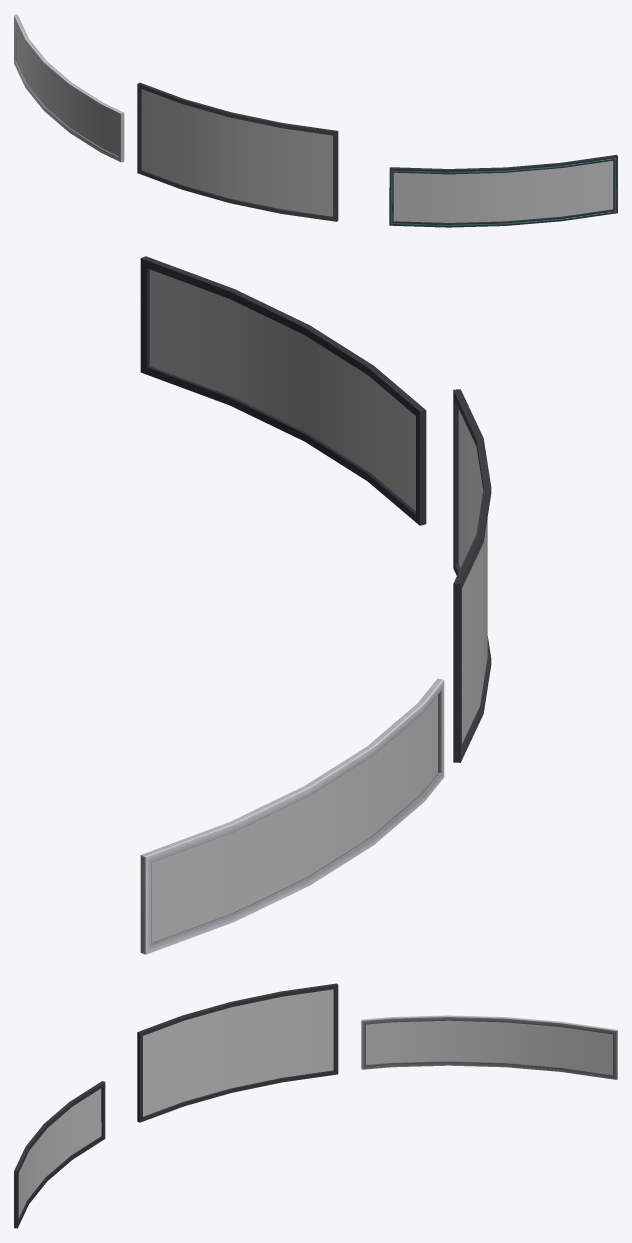
Rendered from mesh_1002_guanggao6.FBX.
3 views of the same model, one above another, from view 1: azimuth 30°, elevation 25°; view 2: azimuth 150°, elevation 25°; view 3: azimuth 270°, elevation 25° (orthographic). The views are drawn at different scales.
Parts seen in each view (by area): view 1: mesh_1002_guanggao6b, mesh_1002_guanggao6a; view 2: mesh_1002_guanggao6b, mesh_1002_guanggao6a; view 3: mesh_1002_guanggao6b, mesh_1002_guanggao6a.
Boxes of the visible parts, box(x1,y1,x2,y2) form: mesh_1002_guanggao6b: box(16, 24, 613, 222); mesh_1002_guanggao6a: box(14, 14, 617, 227); mesh_1002_guanggao6b: box(149, 269, 487, 942); mesh_1002_guanggao6a: box(140, 256, 491, 954); mesh_1002_guanggao6b: box(18, 989, 612, 1217); mesh_1002_guanggao6a: box(14, 983, 617, 1228).
Bounding box in the file's own units: 1577 × 407 × 2484.
